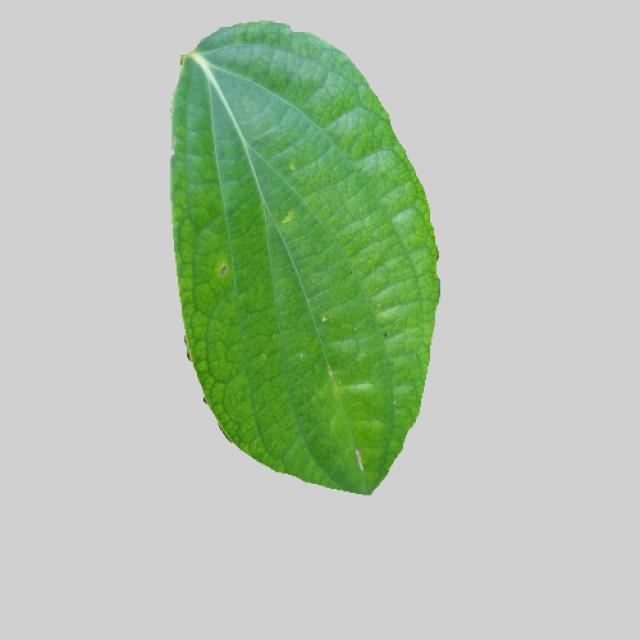healthy: (162, 19, 450, 508)
